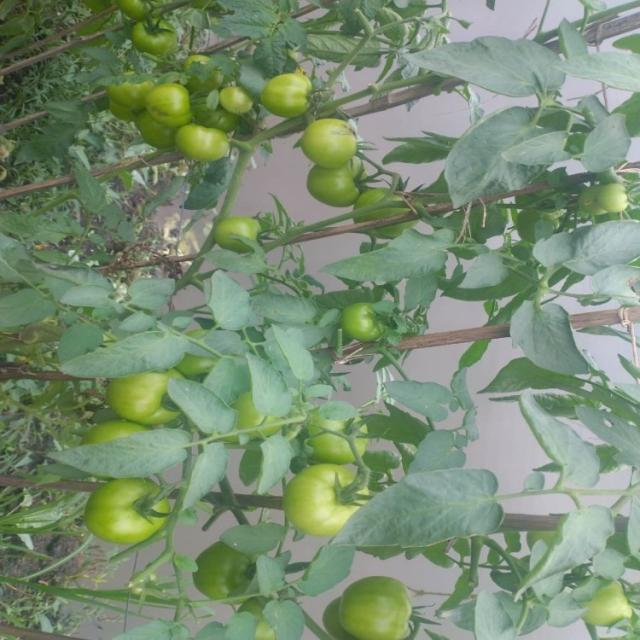tomato: (324, 568, 446, 640), (281, 452, 375, 526), (91, 478, 184, 544), (117, 101, 208, 167), (286, 159, 382, 221), (105, 370, 197, 434), (187, 538, 267, 605), (131, 77, 217, 135), (187, 116, 256, 179), (359, 188, 430, 244), (310, 405, 370, 464), (259, 63, 324, 117), (302, 114, 365, 163), (107, 70, 165, 123), (119, 16, 187, 59), (571, 586, 636, 629), (208, 80, 265, 123), (578, 177, 636, 219), (206, 212, 264, 252), (341, 300, 393, 341), (107, 1, 154, 21)
